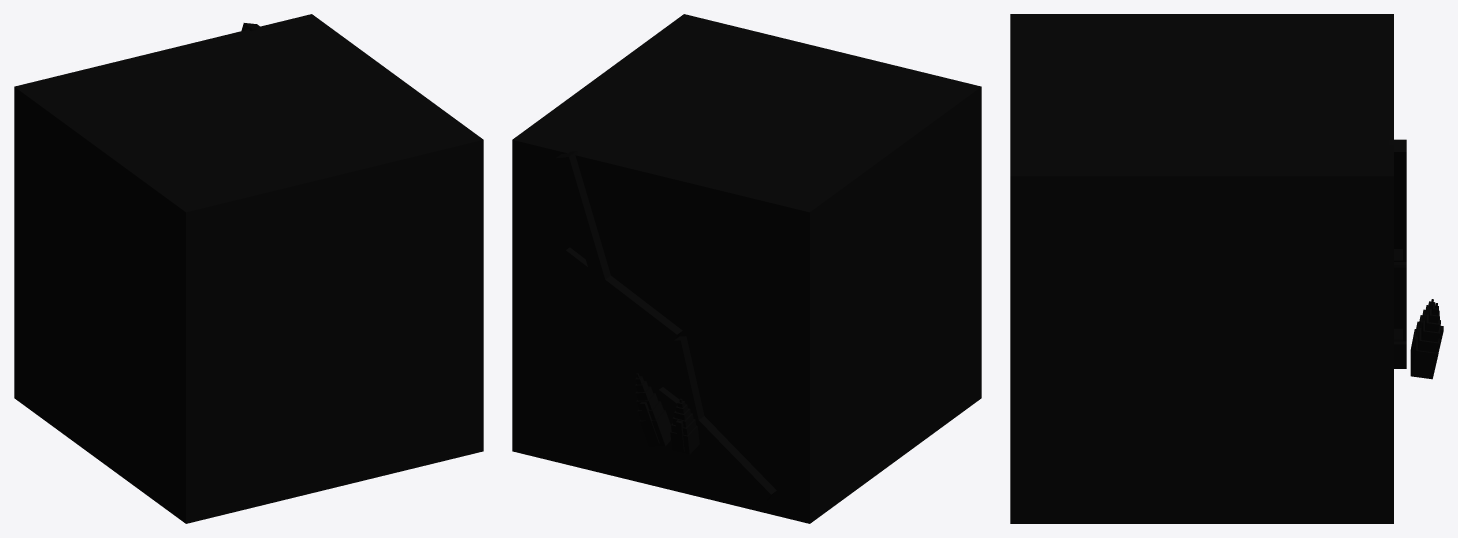
The model's file is lab_tile_dark_eroded.obj.
3 views of the same model, side by side, from view 1: azimuth 30°, elevation 25°; view 2: azimuth 150°, elevation 25°; view 3: azimuth 270°, elevation 25° (orthographic). The views are drawn at different scales.
Size of the model in its own units: 1 by 1.01 by 1.13.
